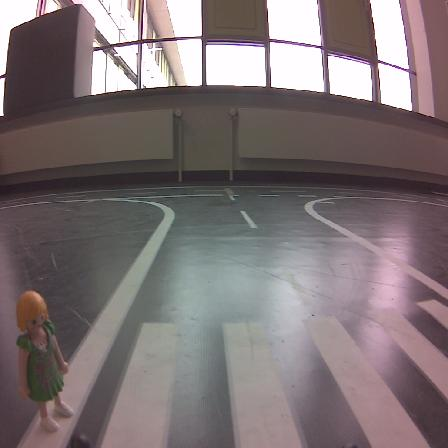PERSON: (16, 290, 72, 431)
